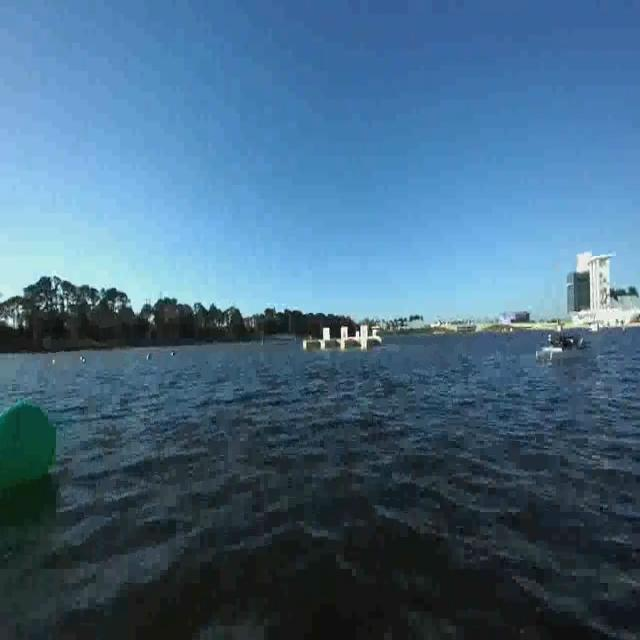green-buoy: (0, 399, 57, 493)
